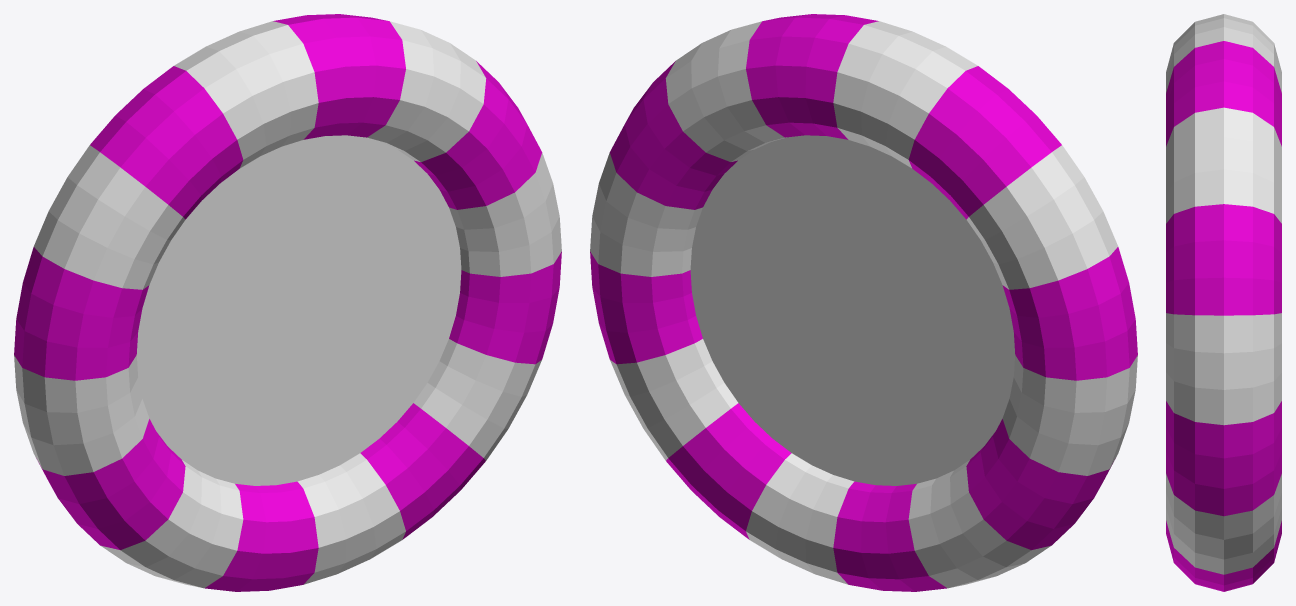
File: FinishlineTorus_Assignment.fbx
3 renders of one model, left to right at view 1: azimuth 30°, elevation 25°; view 2: azimuth 150°, elevation 25°; view 3: azimuth 270°, elevation 25°, orthographic. The views are drawn at different scales.
Visible parts, largest first — view 1: Finish.Torus, Finish.Solid, Finish.Solid_cell.006, Finish.Solid_cell.028, Finish.Solid_cell.033, Finish.Solid_cell.043, Finish.Solid_cell.020, Finish.Solid_cell.013, Finish.Solid_cell.011, Finish.Solid_cell.001, Finish.Solid_cell.016, Finish.Solid_cell.040 (+5 smaller); view 2: Finish.Torus, Finish.Solid, Finish.Solid_cell.024, Finish.Solid_cell.013, Finish.Solid_cell.036, Finish.Solid_cell.028, Finish.Solid_cell.019, Finish.Solid_cell.025, Finish.Solid_cell.033, Finish.Solid_cell.040, Finish.Solid_cell.014, Finish.Solid_cell.002 (+3 smaller); view 3: Finish.Torus.
Boxes of the visible parts, <box> form: Finish.Torus: <box>14,14,561,591</box>; Finish.Solid: <box>136,135,461,483</box>; Finish.Solid_cell.006: <box>292,301,389,479</box>; Finish.Solid_cell.028: <box>137,307,256,417</box>; Finish.Solid_cell.033: <box>232,301,331,402</box>; Finish.Solid_cell.043: <box>356,272,461,330</box>; Finish.Solid_cell.020: <box>382,311,456,397</box>; Finish.Solid_cell.013: <box>254,240,342,302</box>; Finish.Solid_cell.011: <box>199,427,252,483</box>; Finish.Solid_cell.001: <box>238,397,299,443</box>; Finish.Solid_cell.016: <box>157,414,203,469</box>; Finish.Solid_cell.040: <box>383,251,461,275</box>; Finish.Torus: <box>590,14,1137,591</box>; Finish.Solid: <box>690,143,1015,485</box>; Finish.Solid_cell.024: <box>734,156,830,311</box>; Finish.Solid_cell.013: <box>822,154,887,300</box>; Finish.Solid_cell.036: <box>891,236,991,332</box>; Finish.Solid_cell.028: <box>896,310,1010,405</box>; Finish.Solid_cell.019: <box>768,135,864,231</box>; Finish.Solid_cell.025: <box>885,176,957,302</box>; Finish.Solid_cell.033: <box>827,300,915,384</box>; Finish.Solid_cell.040: <box>691,256,778,302</box>; Finish.Solid_cell.014: <box>691,209,744,256</box>; Finish.Solid_cell.002: <box>703,169,745,228</box>; Finish.Torus: <box>1166,14,1281,591</box>.
Bounding box in the file's own units: 677 × 677 × 135.
